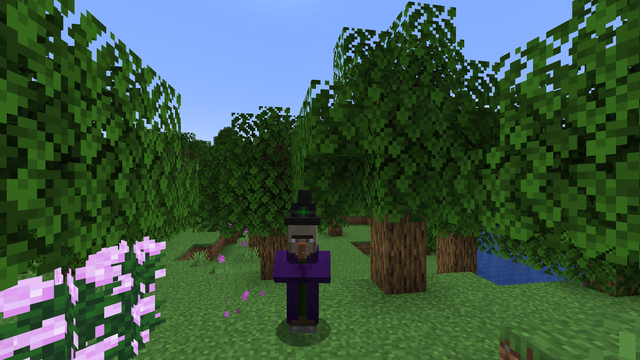sorcieres: (285, 215, 322, 341)
